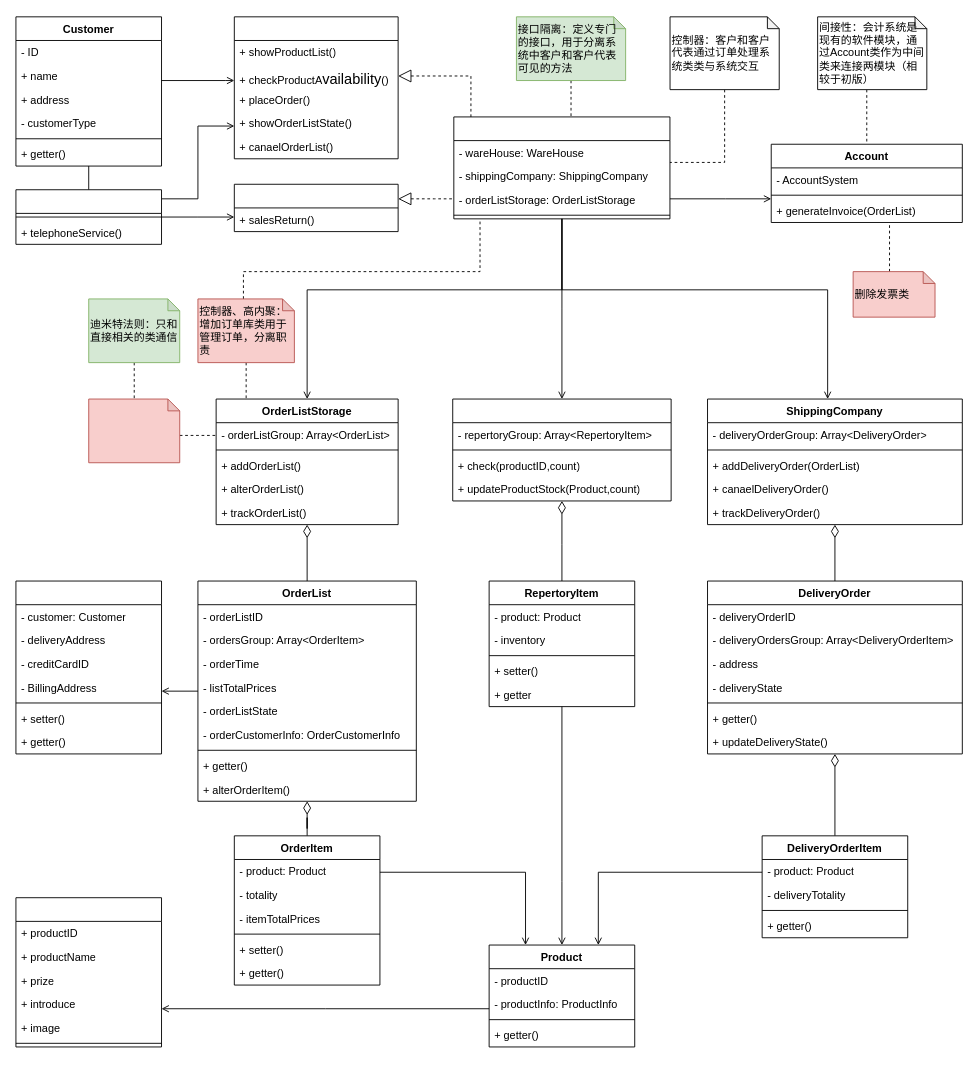
The diagram is 978 pixels wide and 1066 high, and some of its shapes have lost their labels. Each missing label, with the box of its shape:
OrderCustomerInfo: (15, 580, 162, 754)
OrderProcessingSystem: (453, 116, 670, 219)
ProductInfo: (15, 897, 162, 1047)
Representative: (15, 189, 162, 244)
WareHouse: (452, 398, 671, 501)
«interface» AfterSalesService: (233, 183, 398, 232)
«interface» ServeCustomers: (233, 16, 398, 159)
信息专家：将职责分配给直接拥有所有所需信息的类: (88, 398, 180, 463)
